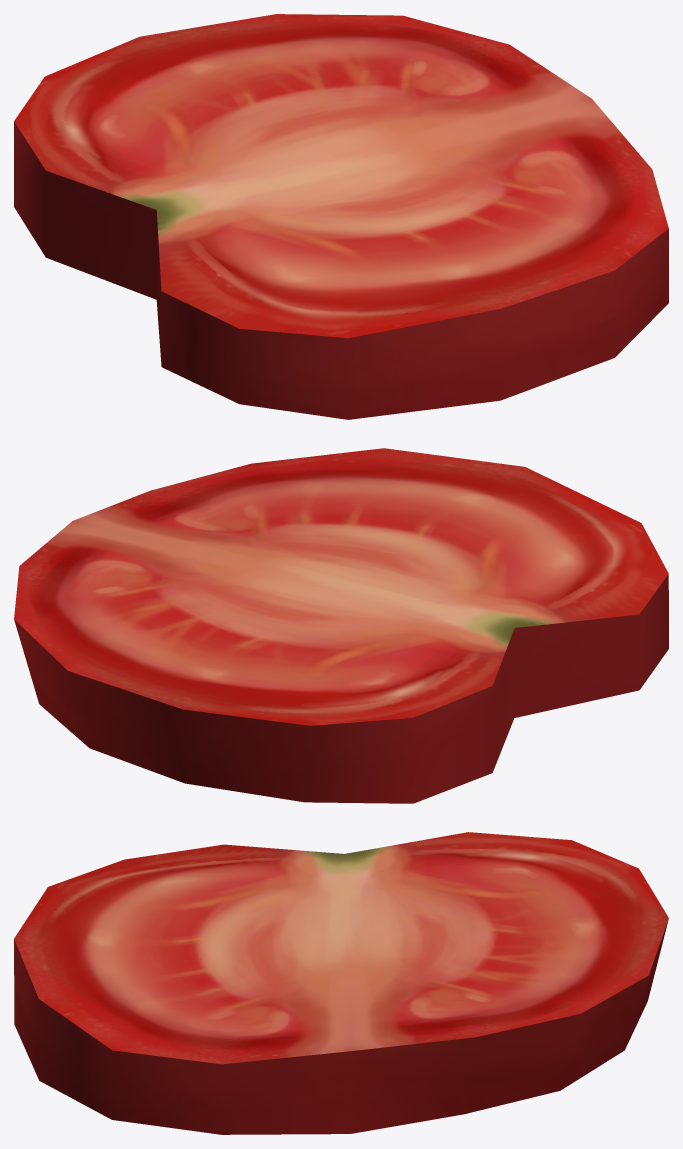
The model's file is tomatoslice.fbx.
3 views of the same model, one above another, from view 1: azimuth 30°, elevation 25°; view 2: azimuth 150°, elevation 25°; view 3: azimuth 270°, elevation 25° (orthographic). The views are drawn at different scales.
Visible parts, largest first — view 1: tomatoslice; view 2: tomatoslice; view 3: tomatoslice.
Part boxes in pixels (x1=…): tomatoslice: x1=14, y1=14, x2=668, y2=419; tomatoslice: x1=14, y1=448, x2=668, y2=803; tomatoslice: x1=14, y1=832, x2=668, y2=1134.
Size of the model in its own units: 13.86 by 2.98 by 16.93.
